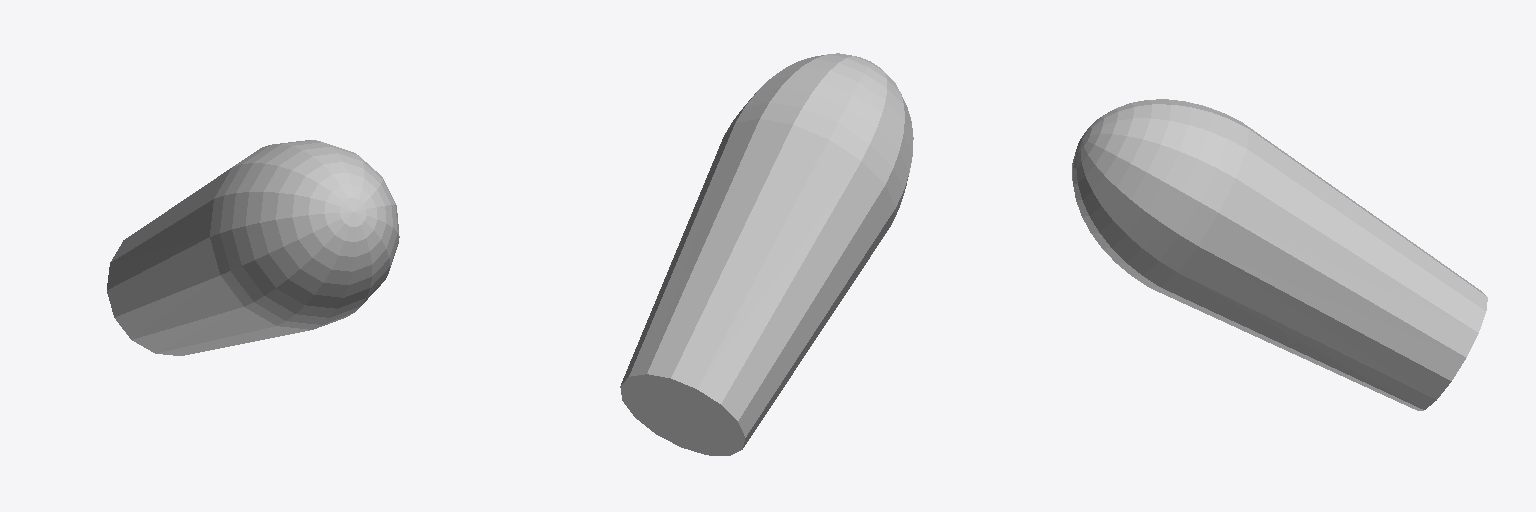
Rendered from e_teil4.obj.
The picture shows the model from 3 angles: view 1: azimuth 30°, elevation 25°; view 2: azimuth 150°, elevation 25°; view 3: azimuth 270°, elevation 25°; orthographic projection.
Bounding box in the file's own units: 0.2945 × 0.5094 × 0.6483.